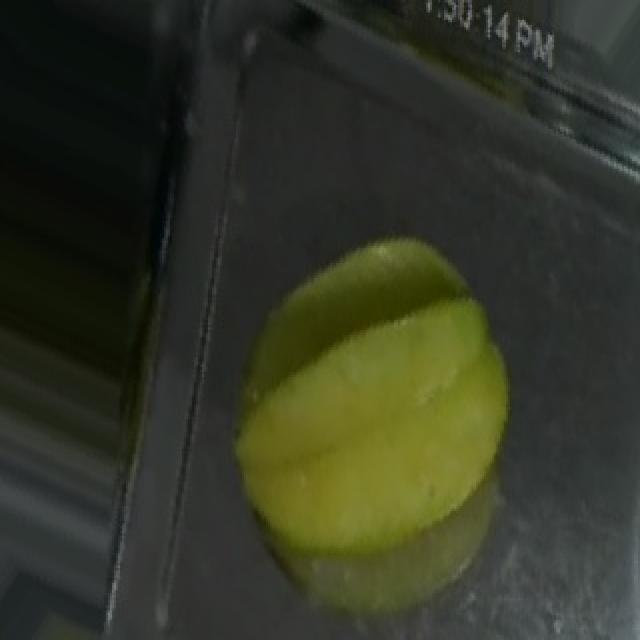fruit: (210, 191, 568, 608)
